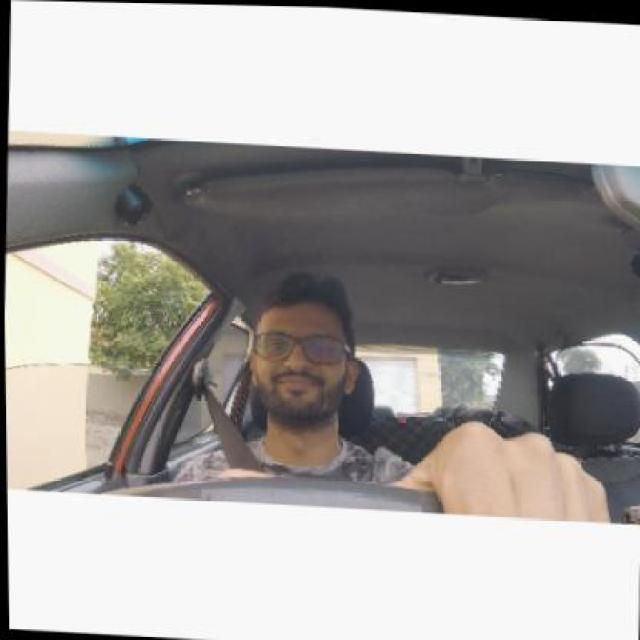person: (247, 291, 360, 413)
